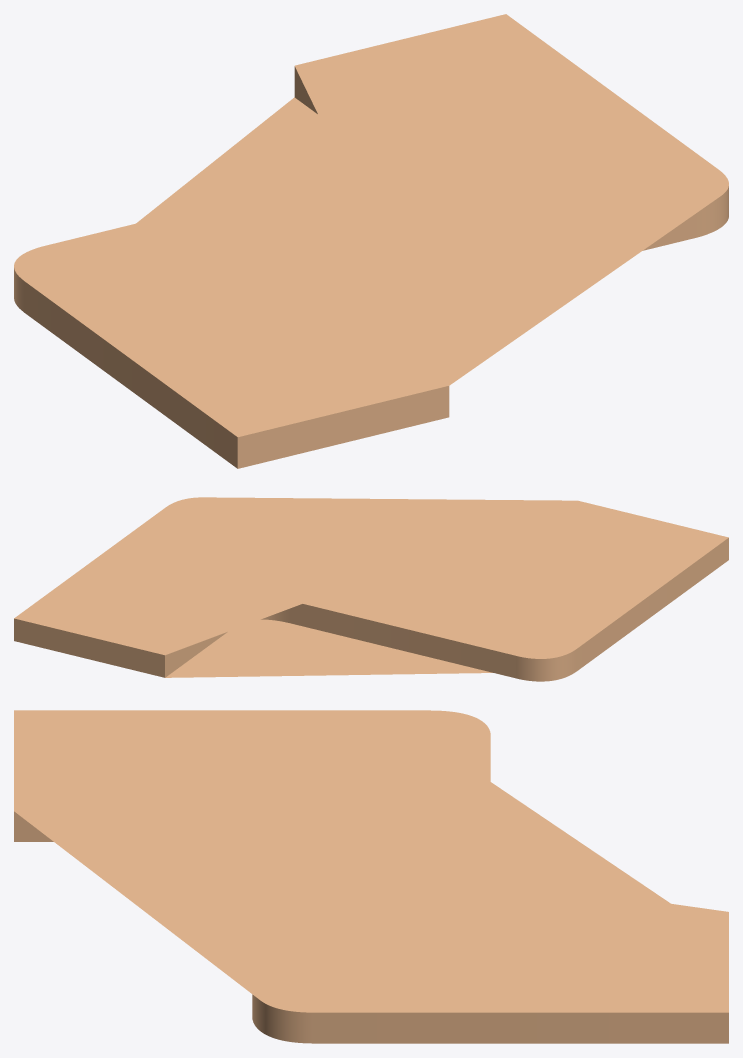
The model's file is sBend1.fbx.
3 views of the same model, one above another, from view 1: azimuth 30°, elevation 25°; view 2: azimuth 150°, elevation 25°; view 3: azimuth 270°, elevation 25° (orthographic). The views are drawn at different scales.
Parts seen in each view (by area): view 1: sBend; view 2: sBend; view 3: sBend.
Boxes of the visible parts, box(x1,y1,x2,y2) form: sBend: box(14, 14, 728, 468); sBend: box(14, 497, 728, 681); sBend: box(14, 710, 728, 1043).
Size of the model in its own units: 1050 by 50 by 1050.
